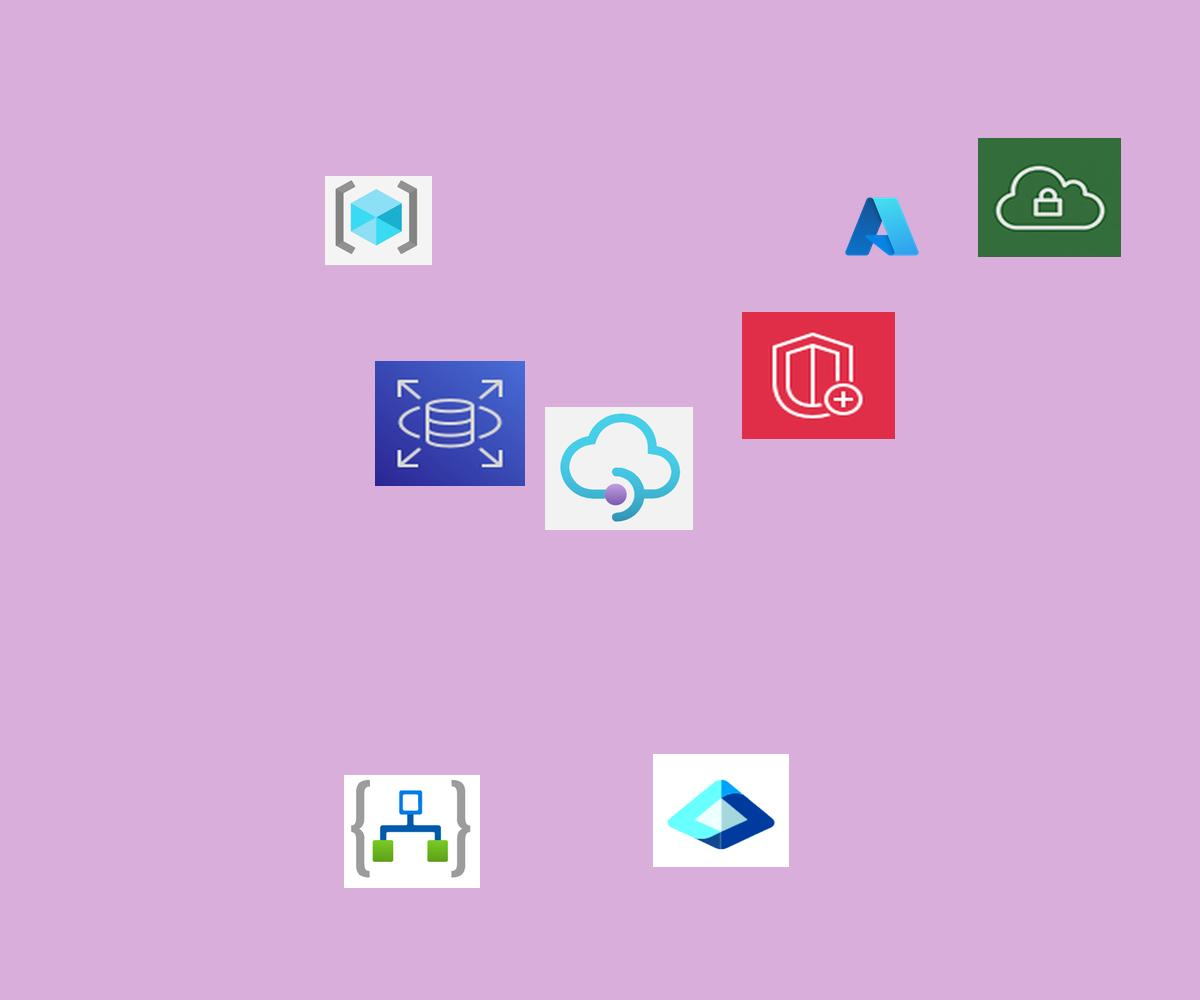AWS-Private_vpc: (978, 138, 1121, 257)
AWS-RDS: (375, 361, 525, 486)
AWS-Shield: (742, 312, 895, 439)
Azure_api_gateway: (545, 407, 693, 530)
Azure_integration-204-Logic-Apps: (344, 775, 480, 888)
Azure_microsoft_entra: (653, 754, 789, 867)
Azure_resource_group: (325, 176, 432, 265)
Azure_services: (842, 193, 922, 260)
